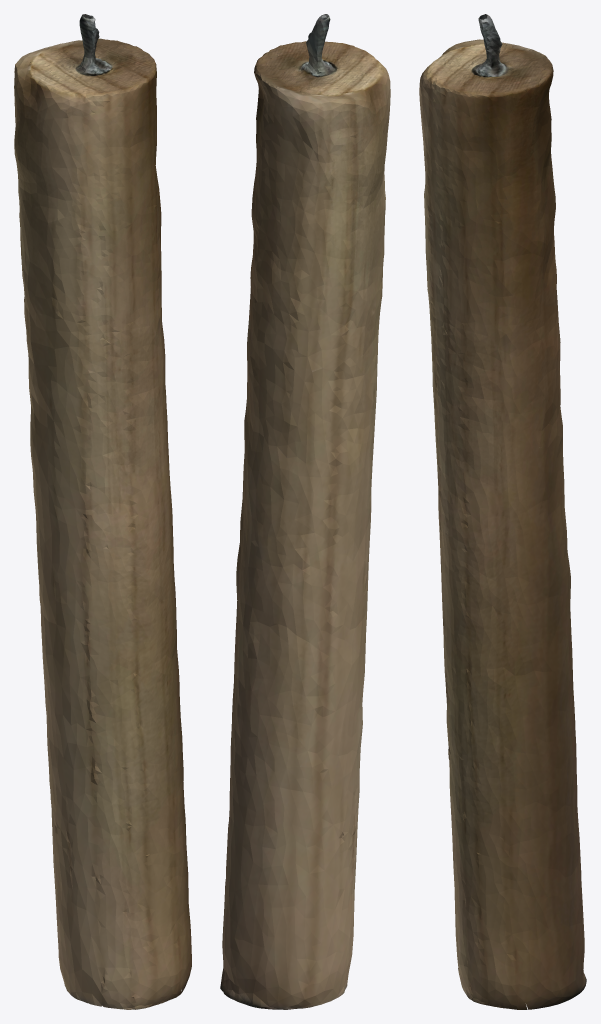
File: stool-leg-scaled.obj
The picture shows the model from 3 angles, left to right: view 1: azimuth 30°, elevation 25°; view 2: azimuth 150°, elevation 25°; view 3: azimuth 330°, elevation 25°; orthographic projection.
Size of the model in its own units: 0.0432 by 0.26 by 0.0341.
1 material, 1 textured.
